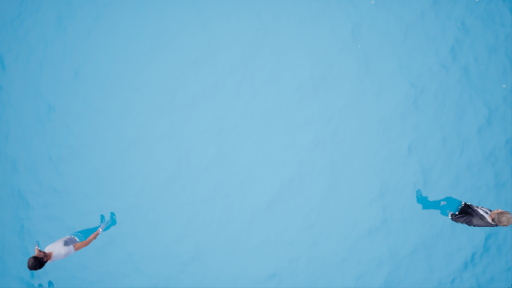person: (20, 209, 131, 274), (410, 189, 512, 235)
